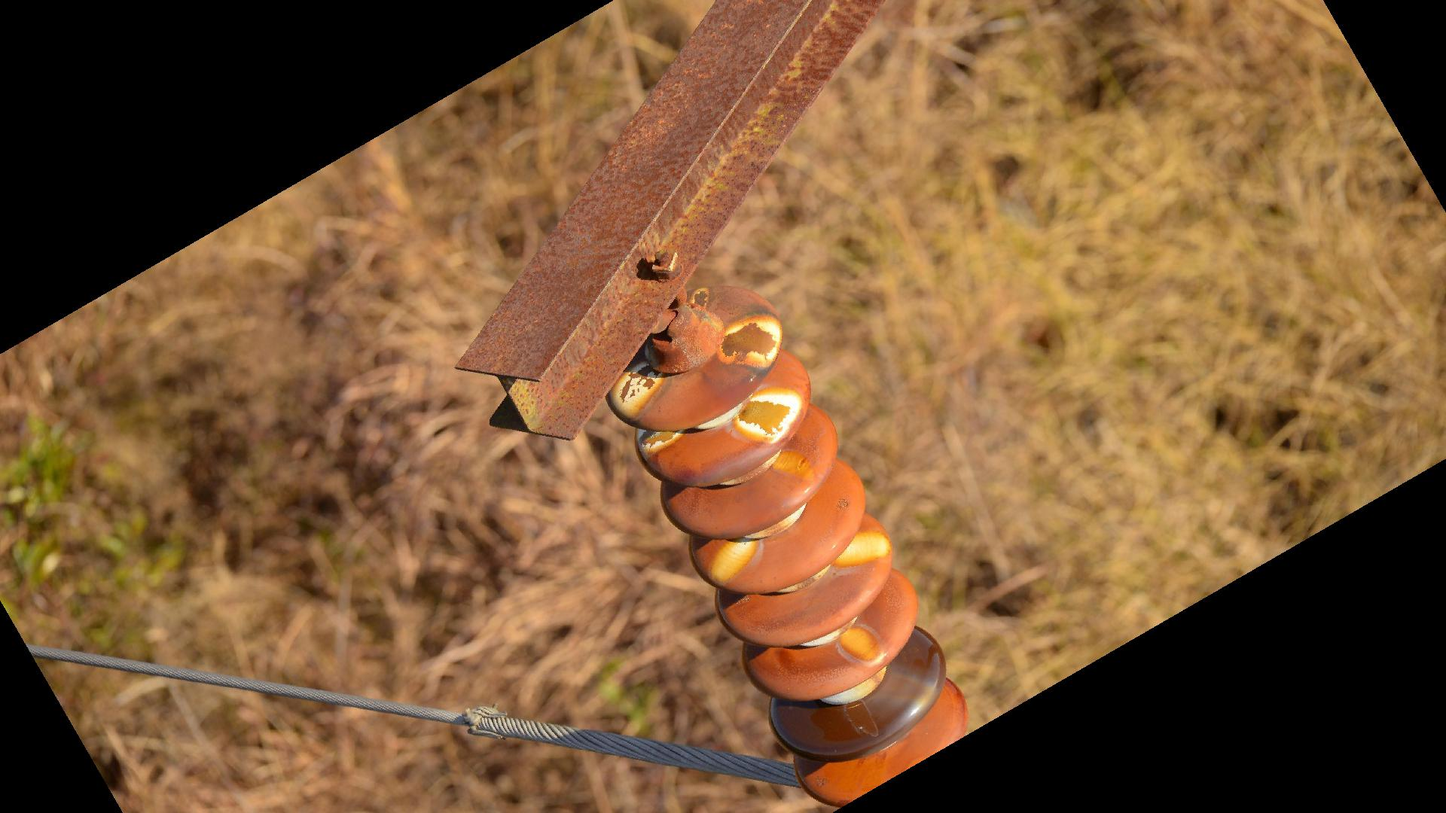insulator: (604, 279, 976, 805)
insulator_flashover: (601, 357, 671, 423), (734, 386, 807, 448), (717, 308, 786, 371), (704, 531, 766, 588), (828, 527, 893, 573), (877, 669, 938, 711), (834, 620, 886, 666), (630, 421, 681, 462), (768, 449, 822, 486)
